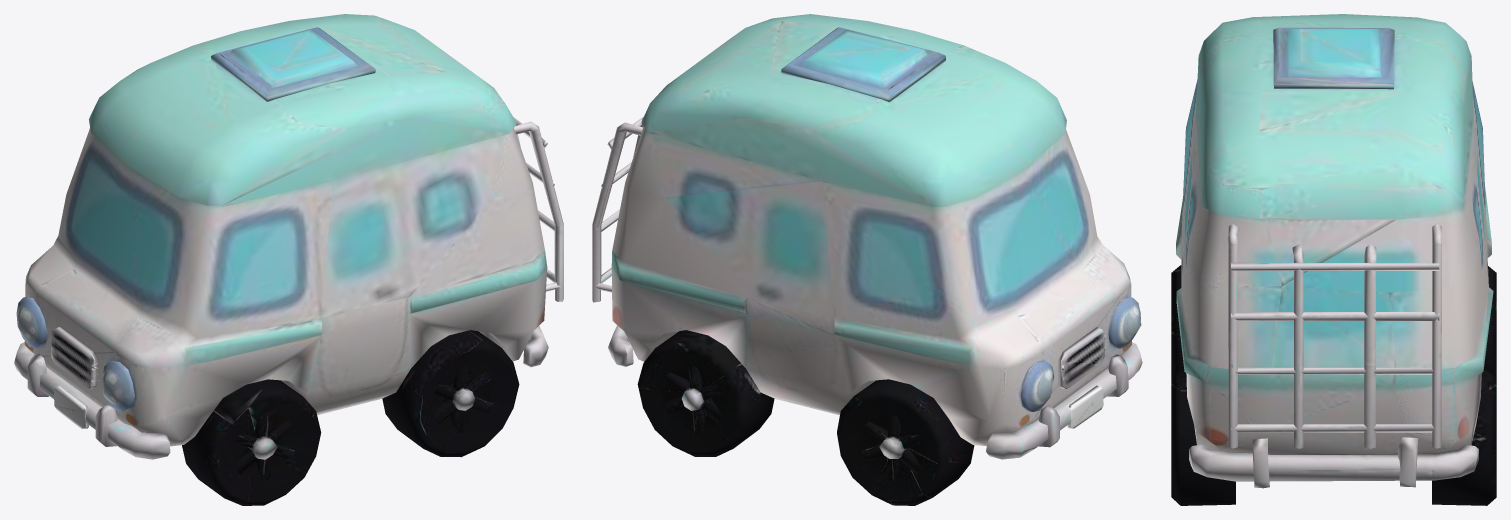
The model's file is car1.glb.
3 views of the same model, side by side, from view 1: azimuth 30°, elevation 25°; view 2: azimuth 150°, elevation 25°; view 3: azimuth 270°, elevation 25° (orthographic). The views are drawn at different scales.
Size of the model in its own units: 0.9536 by 0.7558 by 0.5522.
Materials: 1 (1 with a texture image).
